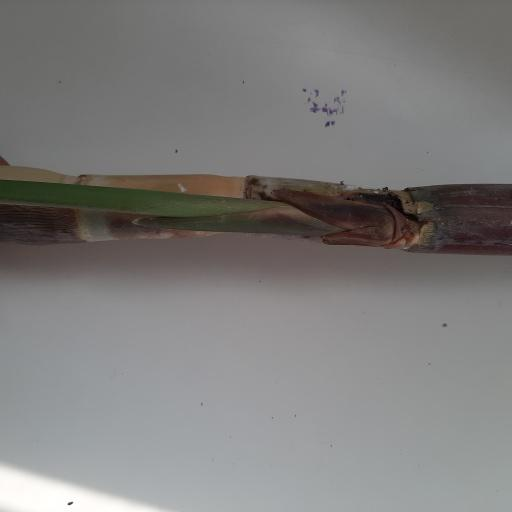Sprouted_Bud: (316, 218, 419, 246)
